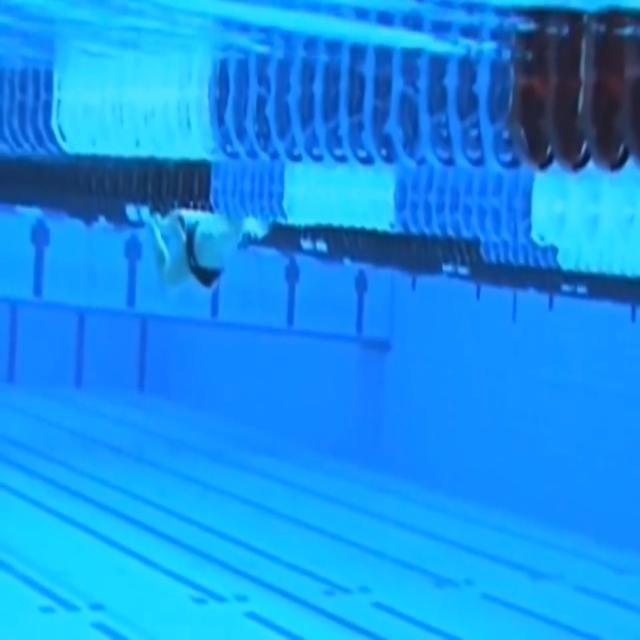Swimming: (143, 210, 254, 292)
